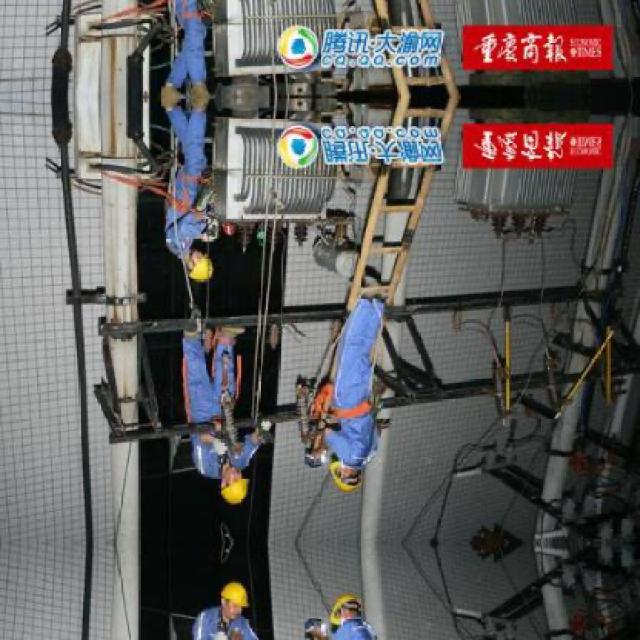con casco: (204, 467, 260, 520), (151, 241, 221, 278), (324, 448, 368, 491)
